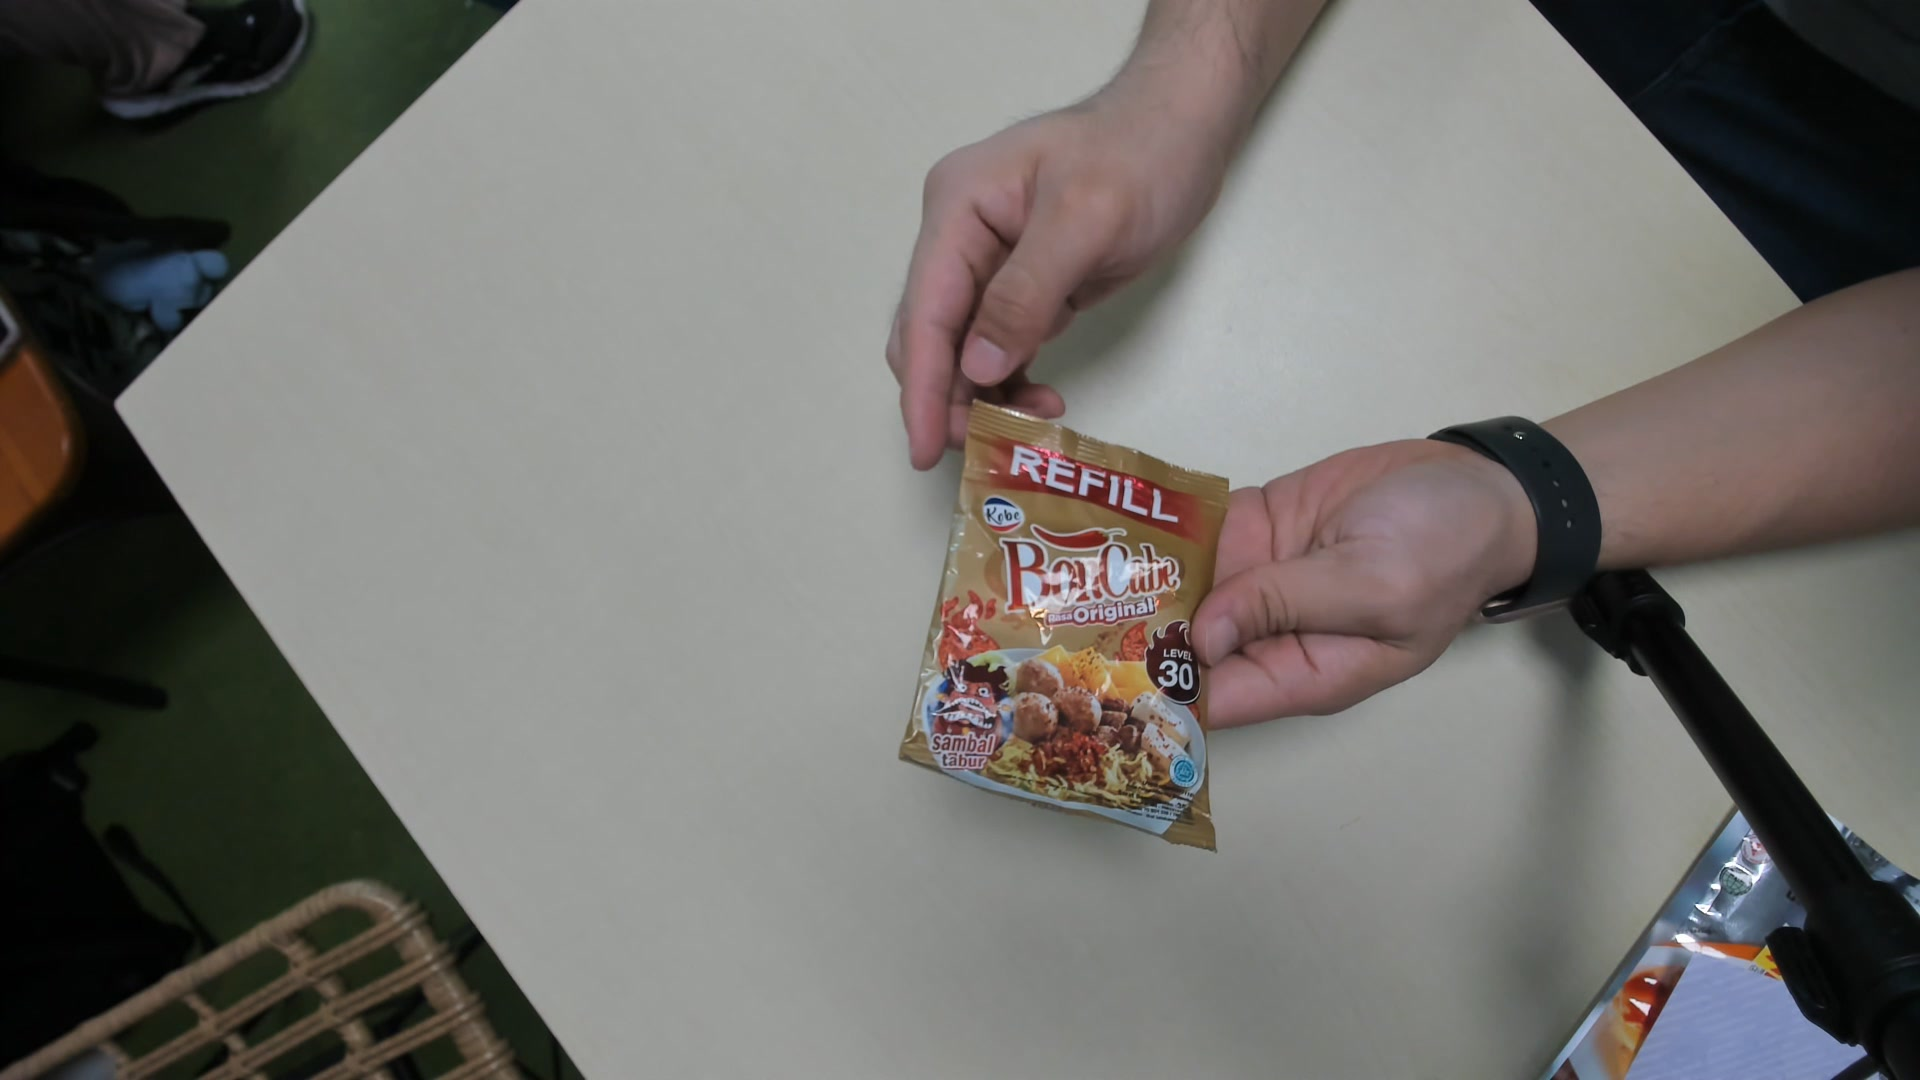CurryPastePowderSauce_0-99g_Halal_NonHealthy: (903, 400, 1226, 862)
